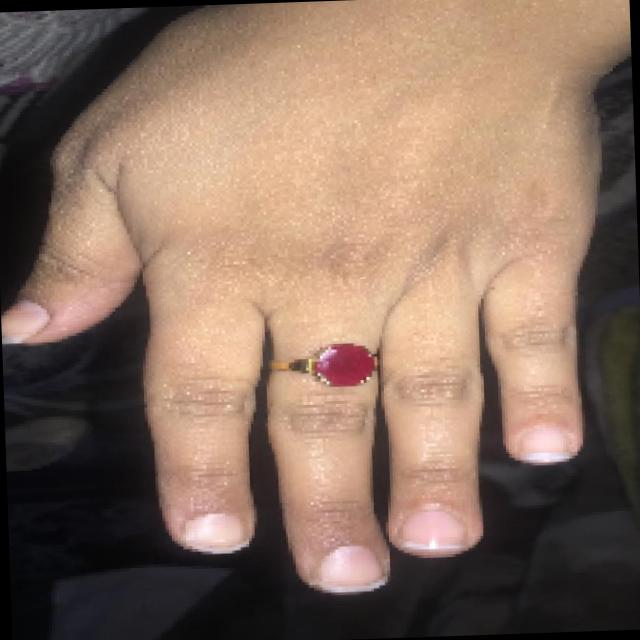Nail: (319, 545, 381, 593), (181, 512, 247, 551), (401, 510, 459, 553), (519, 424, 572, 463), (0, 299, 48, 340)
